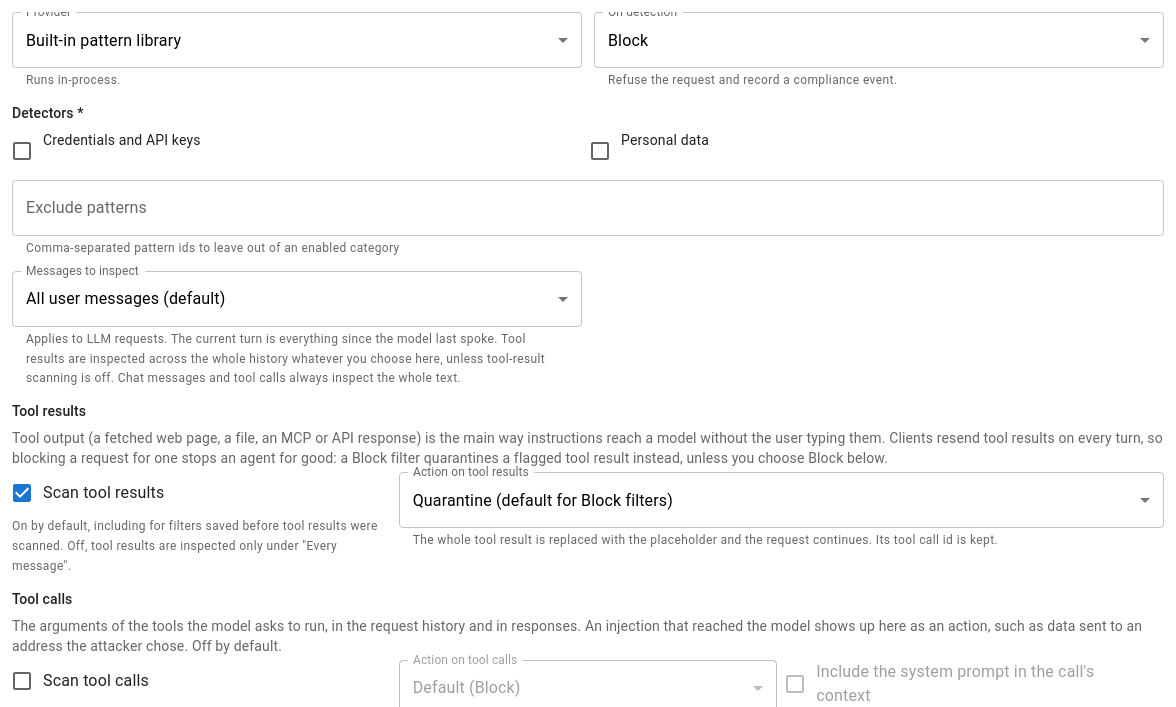
Test: GuardrailConfigForm: tool results › offers Quarantine as the filter's action on a request filter
Press the mouse on the dropdown named "on detection" at x=628, y=40, box left=608, top=30, right=648, bottom=50
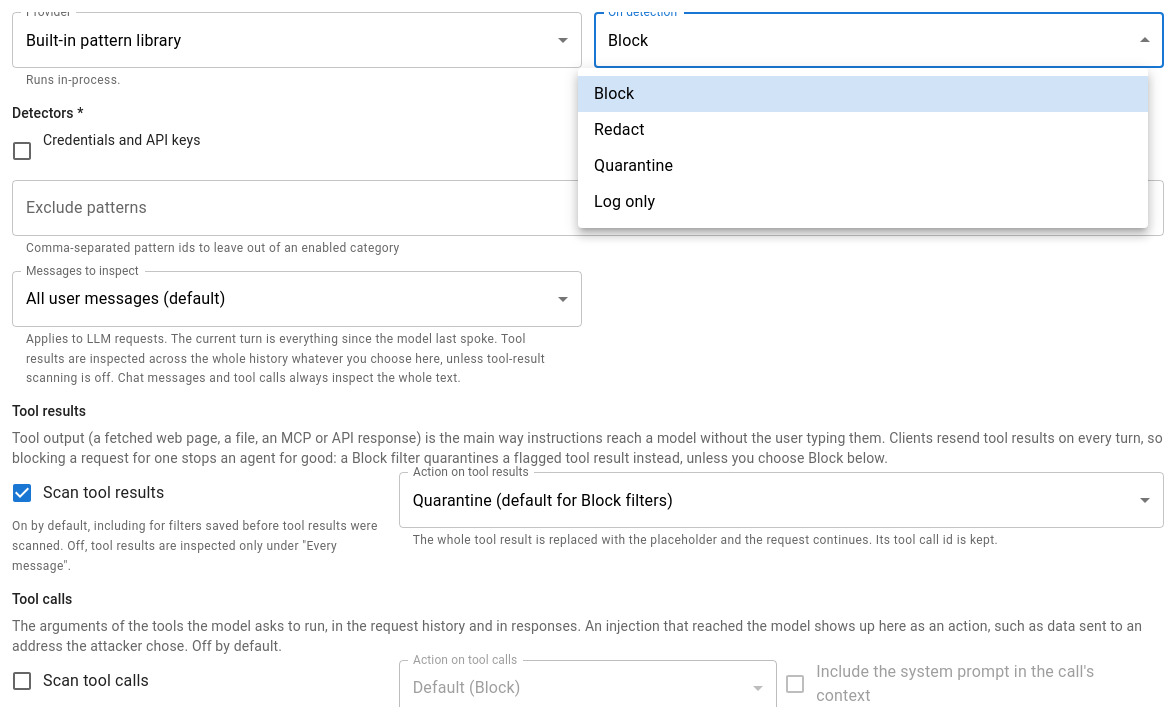
Expected: the option "Quarantine" is shown, left=594, top=156, right=673, bottom=175
